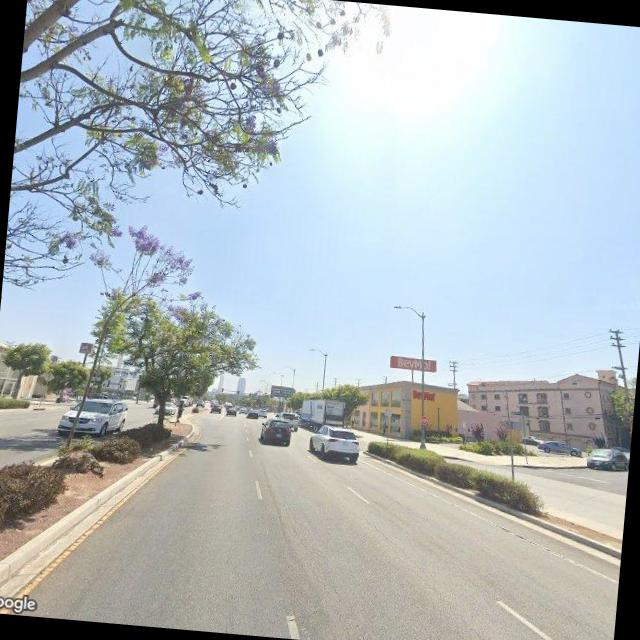pothole: (356, 512, 413, 559)
